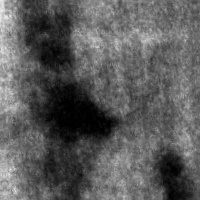patches: (33, 77, 115, 170), (31, 16, 73, 67), (157, 149, 191, 197)
